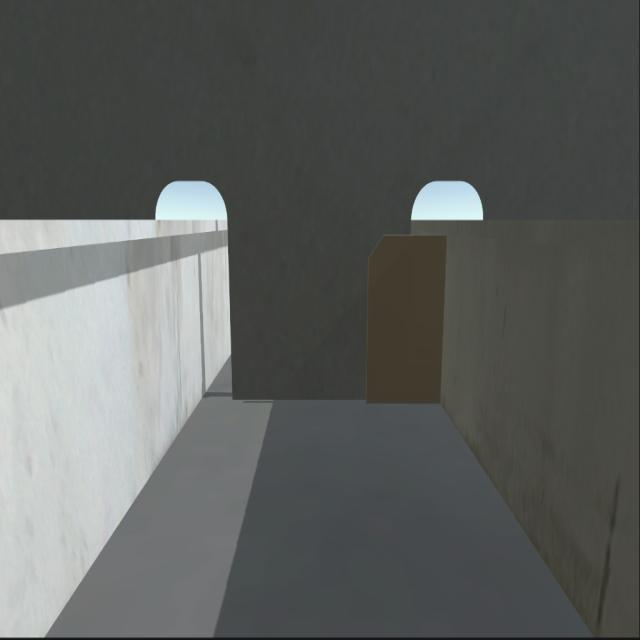fillet_yong_jeop_jang: (230, 388, 442, 407)
longi_yong_jeop_jang: (432, 232, 454, 404)
plate_CP03: (362, 237, 456, 412), (314, 502, 315, 503)
